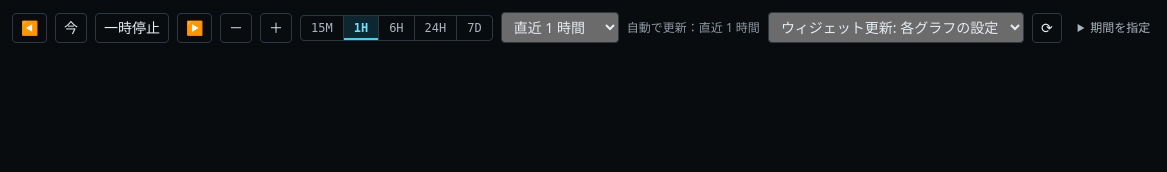
Scenario: TimeRangeControls › よく使う期間のボタン（15M・1H・6H・24H・7D）で、その幅の直近モードになる。今の期間のボタンは押された状態
Click the button named "直近 6 時間" at [397, 28], box [379,16,415,40]
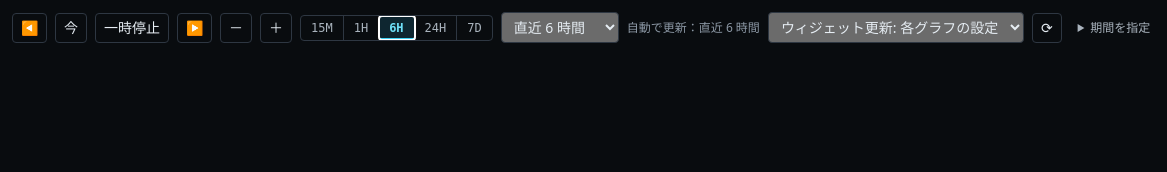
Check: the button named "直近 6 時間" is pressed, box [379,16,415,40]
Check: the button named "直近 1 時間" is not pressed, box [344,16,379,40]
